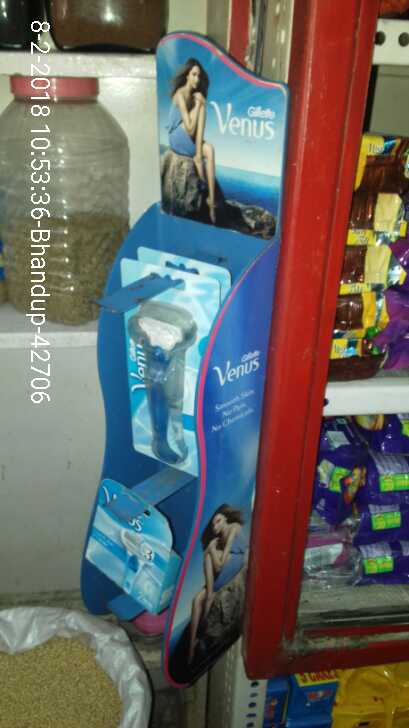venus: (118, 257, 205, 473), (86, 477, 167, 609)
